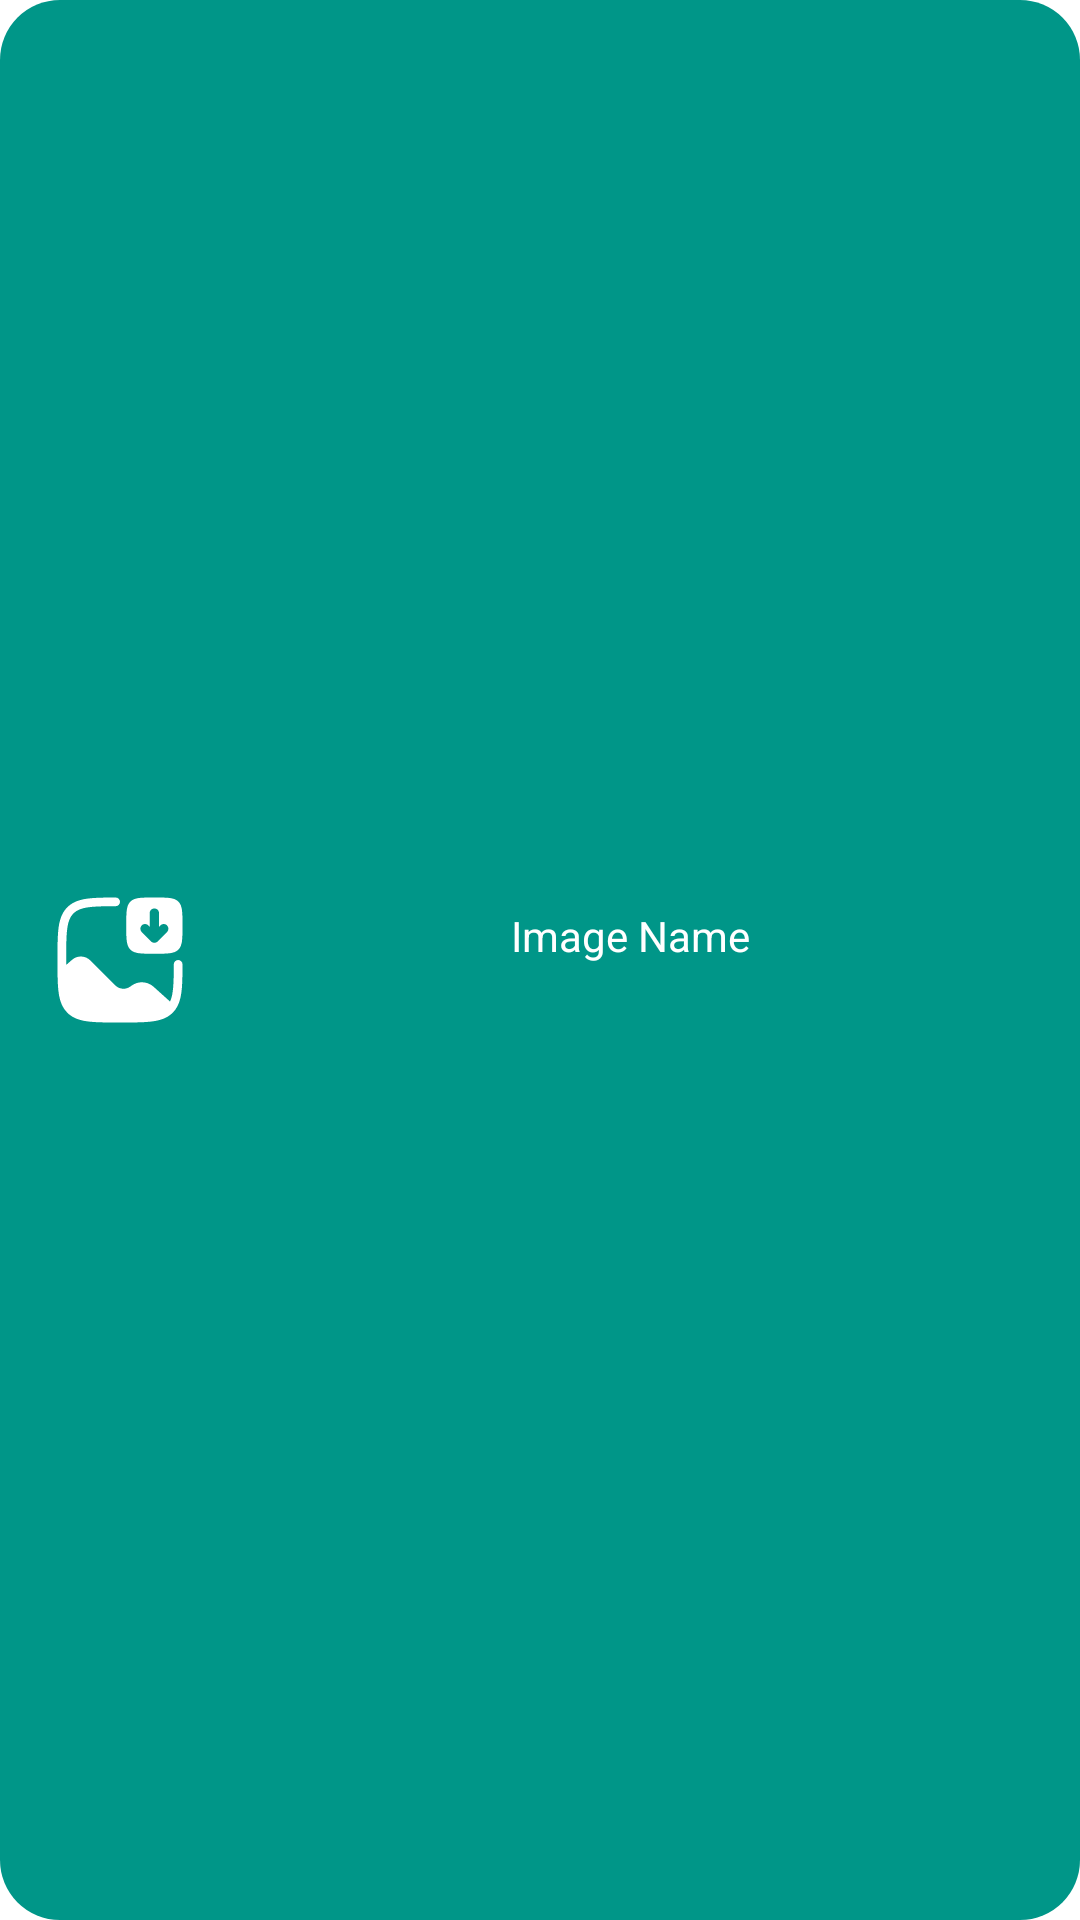

Point at icon controls on the screen. Image size 1080 × 1920, points as point (x, y).
download: point (120, 960)
